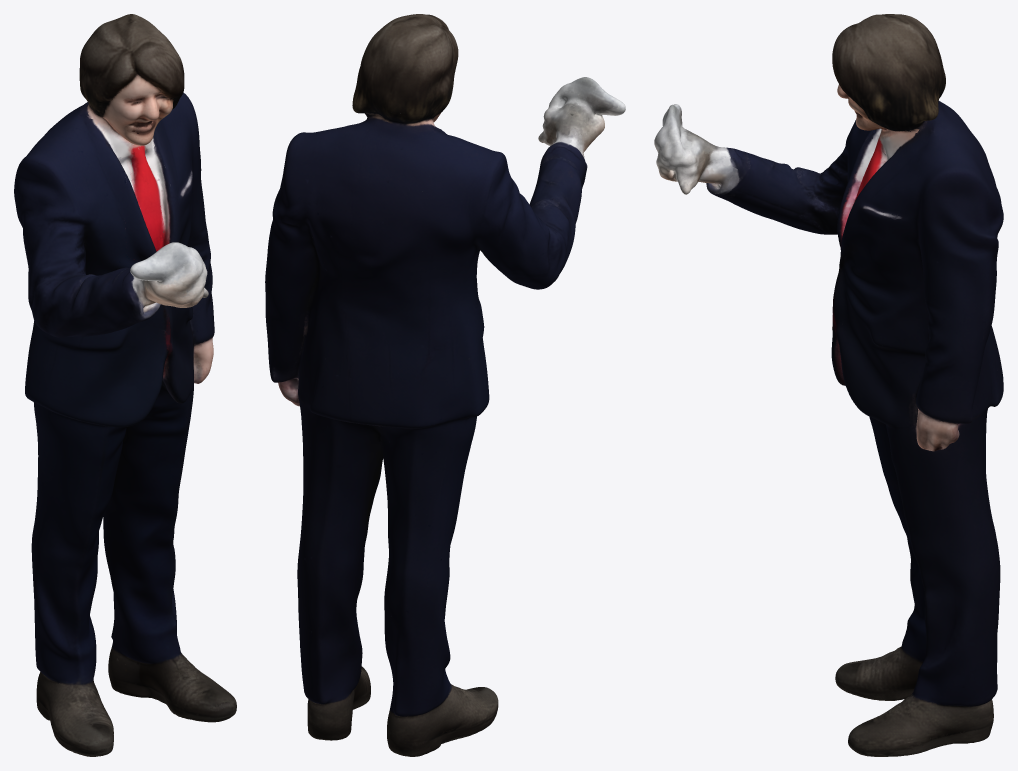
The model's file is manwithsuit1.glb.
3 renders of one model, left to right at view 1: azimuth 30°, elevation 25°; view 2: azimuth 150°, elevation 25°; view 3: azimuth 270°, elevation 25°, orthographic.
Parts seen in each view (by area): view 1: world; view 2: world; view 3: world.
Boxes of the visible parts, x1,y1,x2,y2 form: world: (14,14,236,756); world: (265,14,625,756); world: (654,14,1003,756).
Bounding box in the file's own units: 0.3461 × 1 × 0.4544.
1 material, 1 textured.
